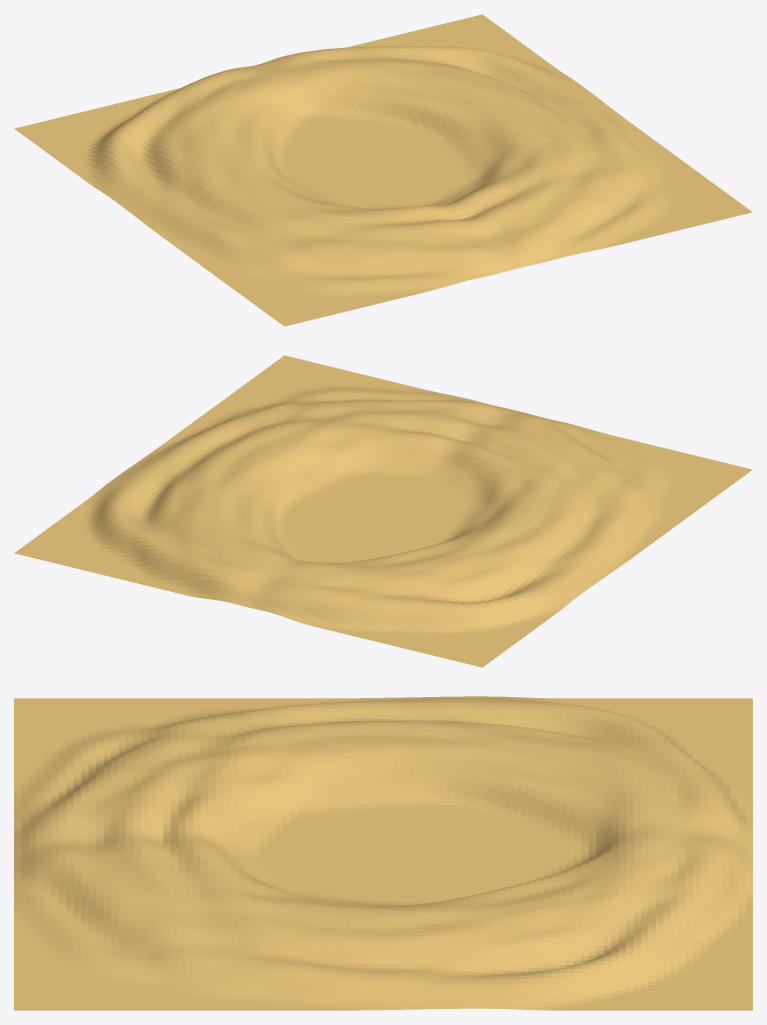
The model's file is island.glb.
3 renders of one model, top to bottom at view 1: azimuth 30°, elevation 25°; view 2: azimuth 150°, elevation 25°; view 3: azimuth 270°, elevation 25°, orthographic. The views are drawn at different scales.
Parts seen in each view (by area): view 1: Grid; view 2: Grid; view 3: Grid.
Boxes of the visible parts, left/top/right/bottom form: Grid: left=14, top=14, right=752, bottom=326; Grid: left=14, top=355, right=752, bottom=667; Grid: left=14, top=696, right=752, bottom=1010.
Size of the model in its own units: 100 by 4.44 by 100.
